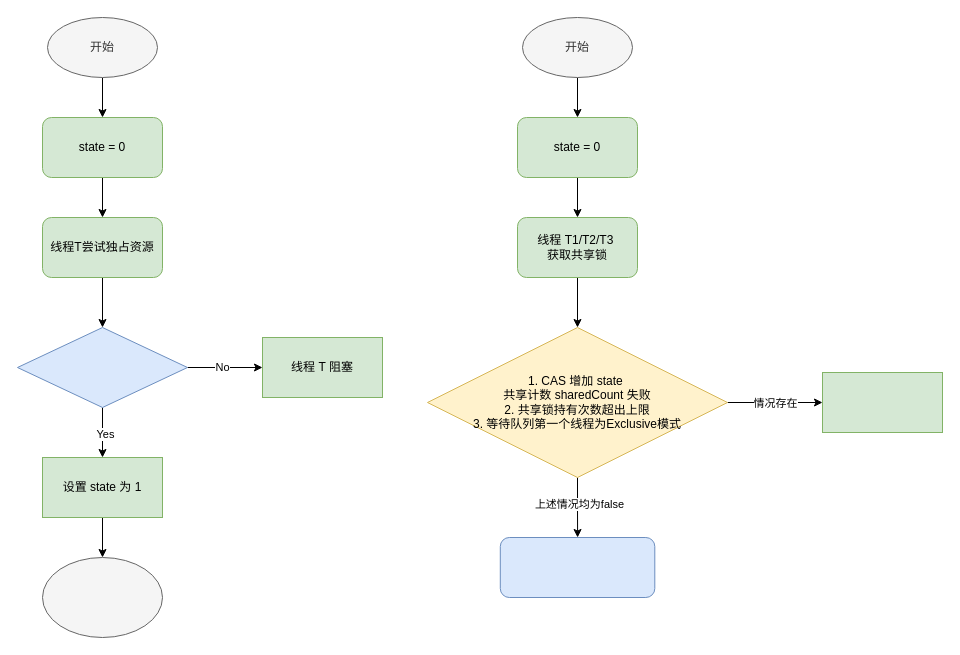
This 960x655 diagram has some shape labels left out. Here are the shapes that lost their labels. From the top down, the centre of each, then its label:
pixel 102 367: state是否为0？
pixel 882 402: 线程阻塞
pixel 577 567: 通过ThreadLocal持有的HoldCounter，累加 线程持有共享锁的次数。
pixel 102 597: 结束
